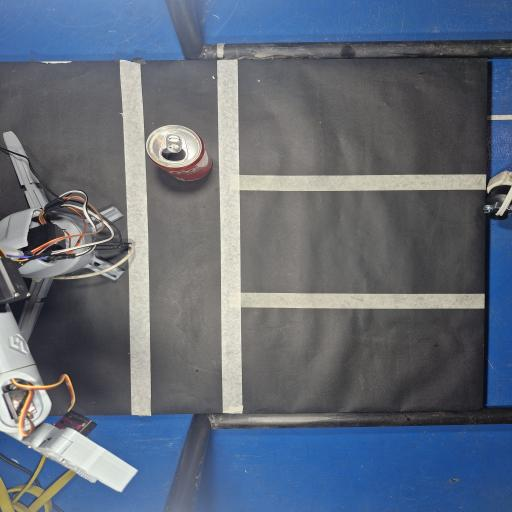lata: (146, 125, 212, 181)
